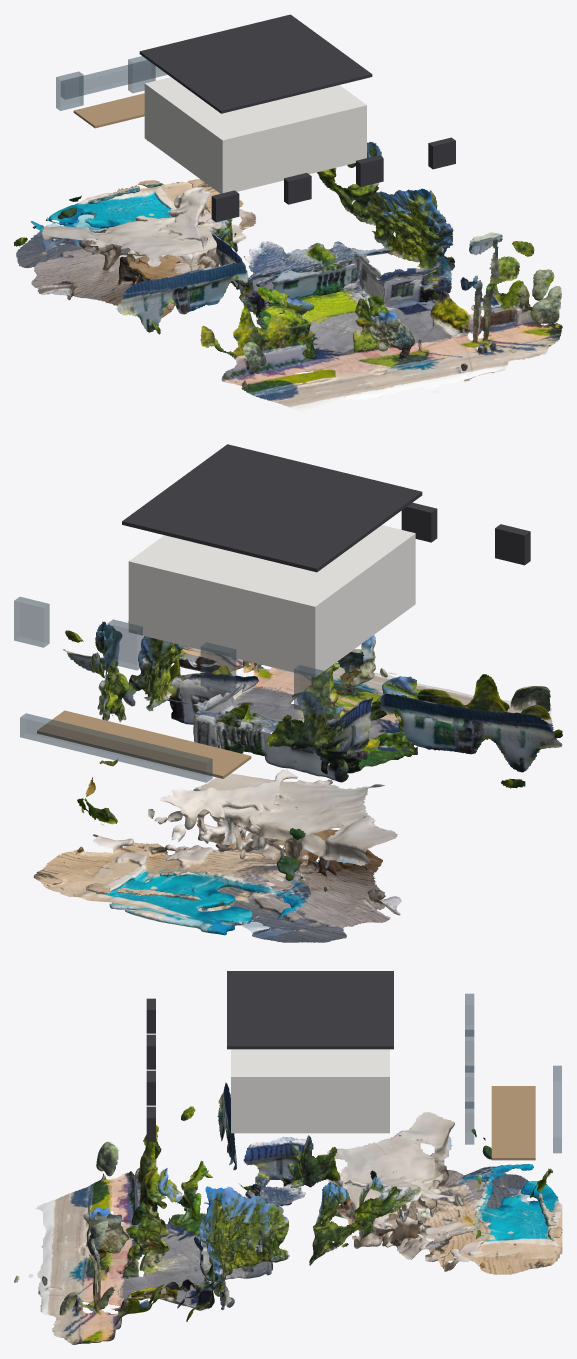
The model's file is house_plus_second_floor_solid.glb.
The picture shows the model from 3 angles, top to bottom: view 1: azimuth 30°, elevation 25°; view 2: azimuth 150°, elevation 25°; view 3: azimuth 270°, elevation 25°; orthographic projection. The views are drawn at different scales.
Visible parts, largest first — view 1: existing_house_mesh, Cube, Cube.001, Cube.011, Cube.010, Cube.003, Cube.005, Cube.002, Cube.006, Cube.004, Cube.008; view 2: existing_house_mesh, Cube, Cube.001, Cube.010, Cube.011, Cube.005, Cube.007, Cube.009, Cube.003, Cube.002, Cube.004; view 3: existing_house_mesh, Cube, Cube.001, Cube.010, Cube.011.
Part boxes in pixels (<box>): existing_house_mesh: <box>14,140,562,415</box>; Cube: <box>144,77,366,193</box>; Cube.001: <box>139,14,372,113</box>; Cube.011: <box>61,60,167,99</box>; Cube.010: <box>73,93,144,128</box>; Cube.003: <box>56,71,83,110</box>; Cube.005: <box>128,56,155,93</box>; Cube.002: <box>211,190,239,222</box>; Cube.006: <box>356,155,383,186</box>; Cube.004: <box>284,173,311,204</box>; Cube.008: <box>428,137,455,169</box>; existing_house_mesh: <box>33,621,562,942</box>; Cube: <box>128,525,415,677</box>; Cube.001: <box>122,444,422,572</box>; Cube.010: <box>37,710,251,778</box>; Cube.011: <box>20,713,212,782</box>; Cube.005: <box>200,642,236,692</box>; Cube.007: <box>107,619,142,670</box>; Cube.009: <box>14,597,49,647</box>; Cube.003: <box>294,665,329,715</box>; Cube.002: <box>495,524,530,565</box>; Cube.004: <box>401,502,437,542</box>; existing_house_mesh: <box>14,1082,562,1344</box>; Cube: <box>231,1049,389,1133</box>; Cube.001: <box>227,971,393,1049</box>; Cube.010: <box>491,1086,535,1160</box>; Cube.011: <box>553,1065,561,1153</box>.
Size of the model in its own units: 0.978 by 0.5191 by 1.04.
